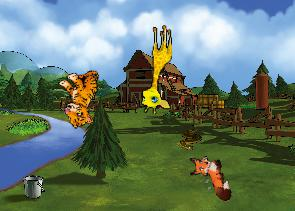fox: (185, 148, 234, 208)
giraffe: (140, 24, 172, 114)
tiger: (52, 64, 112, 130)
